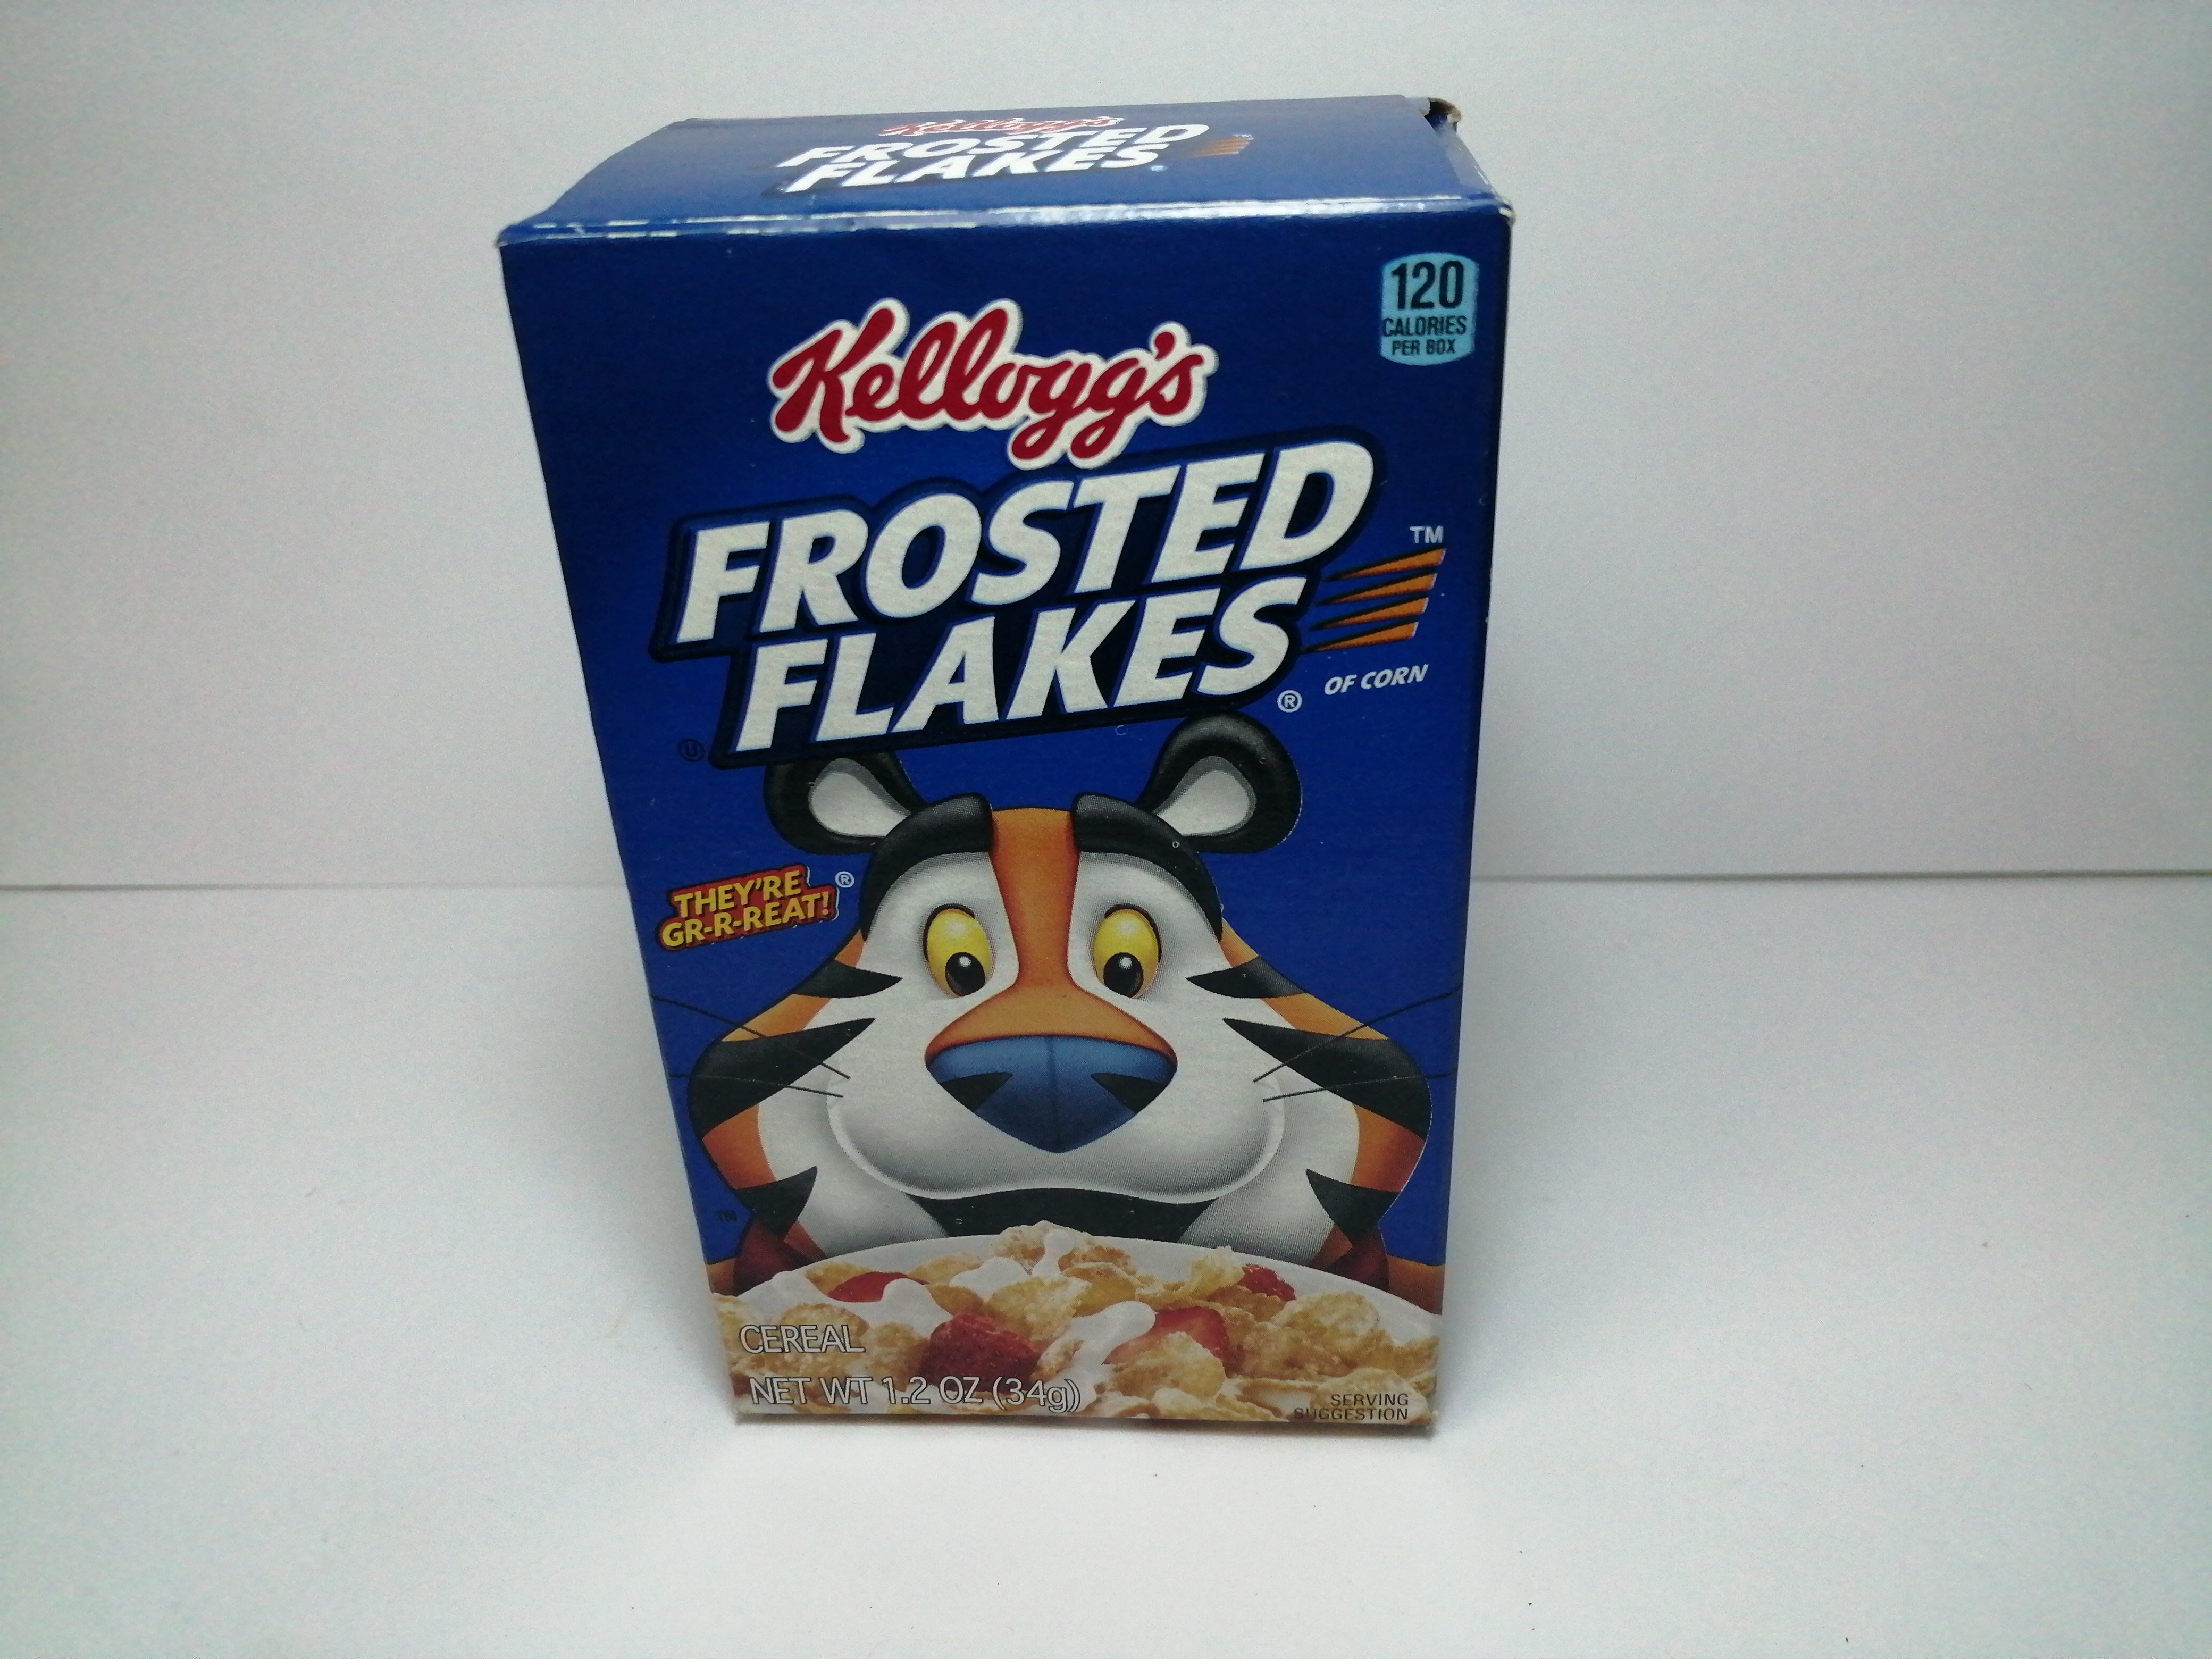cereal azucarado: (469, 78, 1588, 1483)
